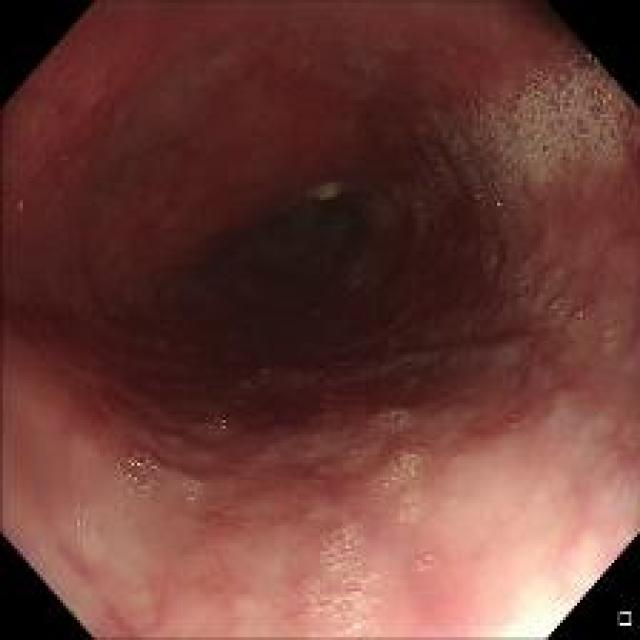bubbles: (409, 66, 631, 208), (290, 522, 391, 632), (490, 255, 574, 316), (108, 438, 174, 508), (386, 450, 422, 528), (368, 401, 418, 439), (199, 409, 240, 442), (410, 555, 436, 572), (502, 411, 522, 430), (572, 308, 590, 326), (598, 330, 616, 348), (346, 446, 364, 462)
color misalignment: (302, 534, 370, 629), (396, 451, 419, 519), (596, 88, 615, 110)
contrast: (109, 111, 515, 396)
saturation: (486, 568, 580, 636)
